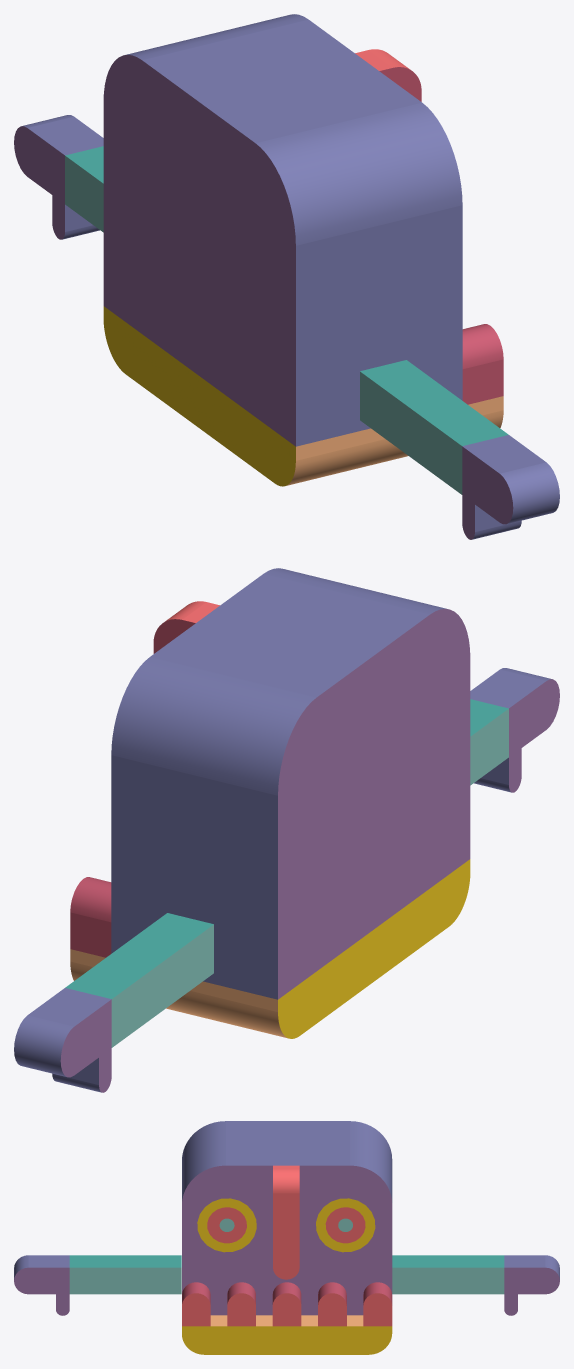
File: bras.dae
3 views of the same model, one above another, from view 1: azimuth 30°, elevation 25°; view 2: azimuth 150°, elevation 25°; view 3: azimuth 270°, elevation 25° (orthographic). The views are drawn at different scales.
Visible parts, largest first — view 1: instance_3 (×6), instance_1 (×4), instance_2 (×4); view 2: instance_3 (×6), instance_2 (×4), instance_1 (×4); view 3: instance_3 (×19), instance_1 (×4), instance_2 (×4).
Boxes of the visible parts, box(x1,y1,x2,y2) form: instance_3 (×6): box(103, 14, 503, 486); instance_1 (×4): box(360, 360, 559, 539); instance_2 (×4): box(14, 115, 103, 239); instance_3 (×6): box(70, 568, 470, 1038); instance_2 (×4): box(14, 913, 213, 1092); instance_1 (×4): box(470, 668, 559, 792); instance_3 (×19): box(182, 1121, 392, 1354); instance_1 (×4): box(14, 1255, 181, 1315); instance_2 (×4): box(392, 1255, 559, 1315).
Bounding box in the file's own units: 51.44 × 213 × 76.67.
